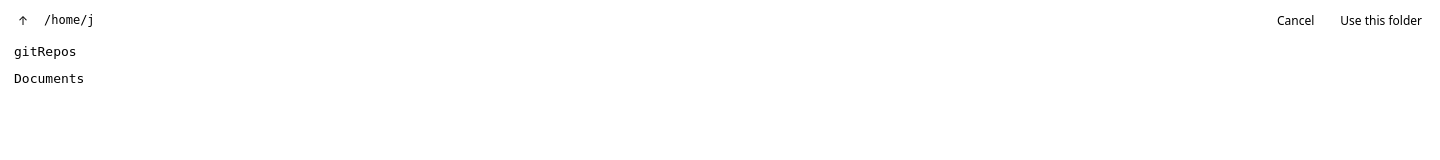
Scenario: browsing › clicking a directory walks into it
Click the button with class "entry" showing "gitRepos" at (45, 52), box [8,39,1432,66]
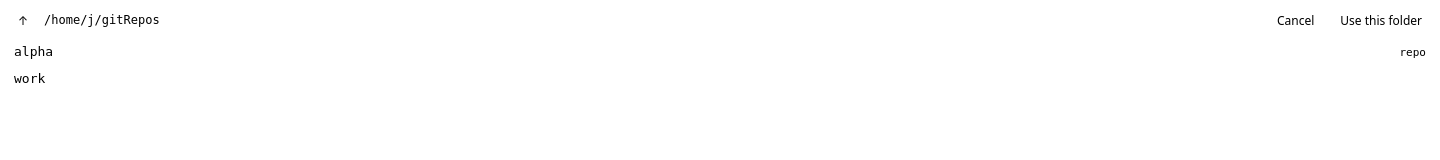
Result: the text with class "current" reads "/home/j/gitRepos" at [44,13,160,27]
Result: the elements with class "entry-name" read "alpha", "work", in this order at [14,44,53,59]; [14,71,45,86]
